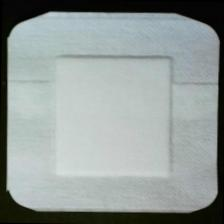Dressing: (4, 9, 224, 216)
